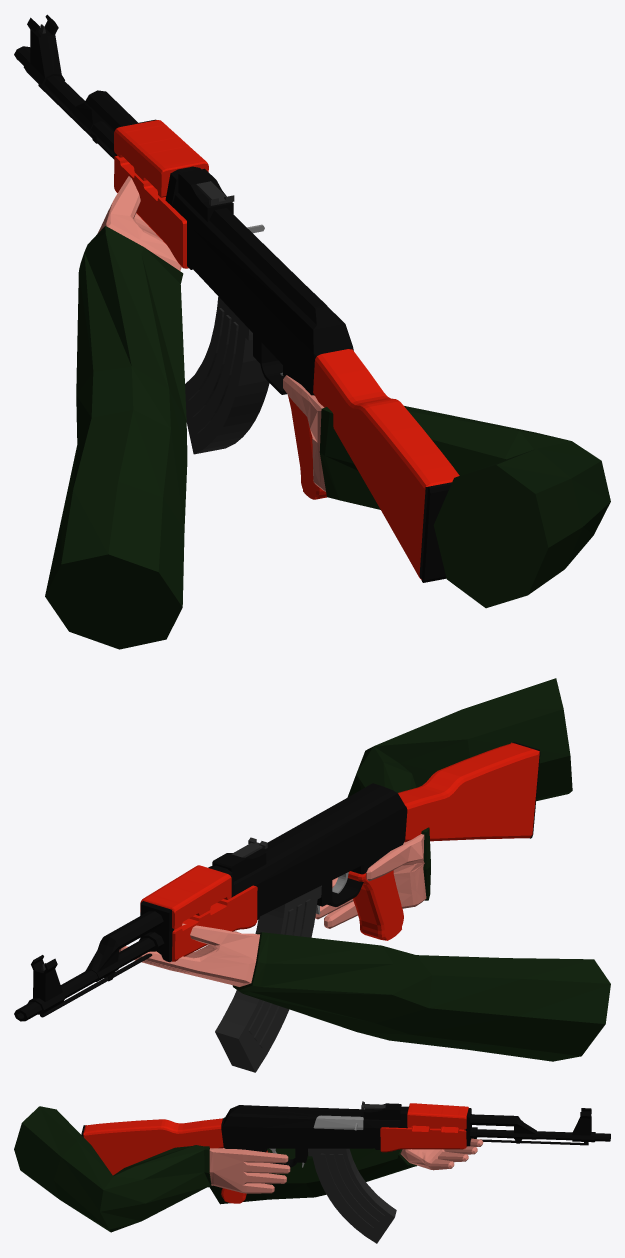
3 views of the same model, one above another, from view 1: azimuth 30°, elevation 25°; view 2: azimuth 150°, elevation 25°; view 3: azimuth 270°, elevation 25° (orthographic). The views are drawn at different scales.
Parts seen in each view (by area): view 1: arms, gun; view 2: arms, gun; view 3: gun, arms.
Part boxes in pixels (x1=…): arms: x1=45, y1=176, x2=610, y2=649; gun: x1=14, y1=14, x2=459, y2=582; arms: x1=119, y1=678, x2=610, y2=1061; gun: x1=14, y1=742, x2=540, y2=1072; gun: x1=81, y1=1101, x2=610, y2=1243; arms: x1=14, y1=1106, x2=483, y2=1232.
Bounding box in the file's own units: 1.18 × 0.8203 × 2.8.
